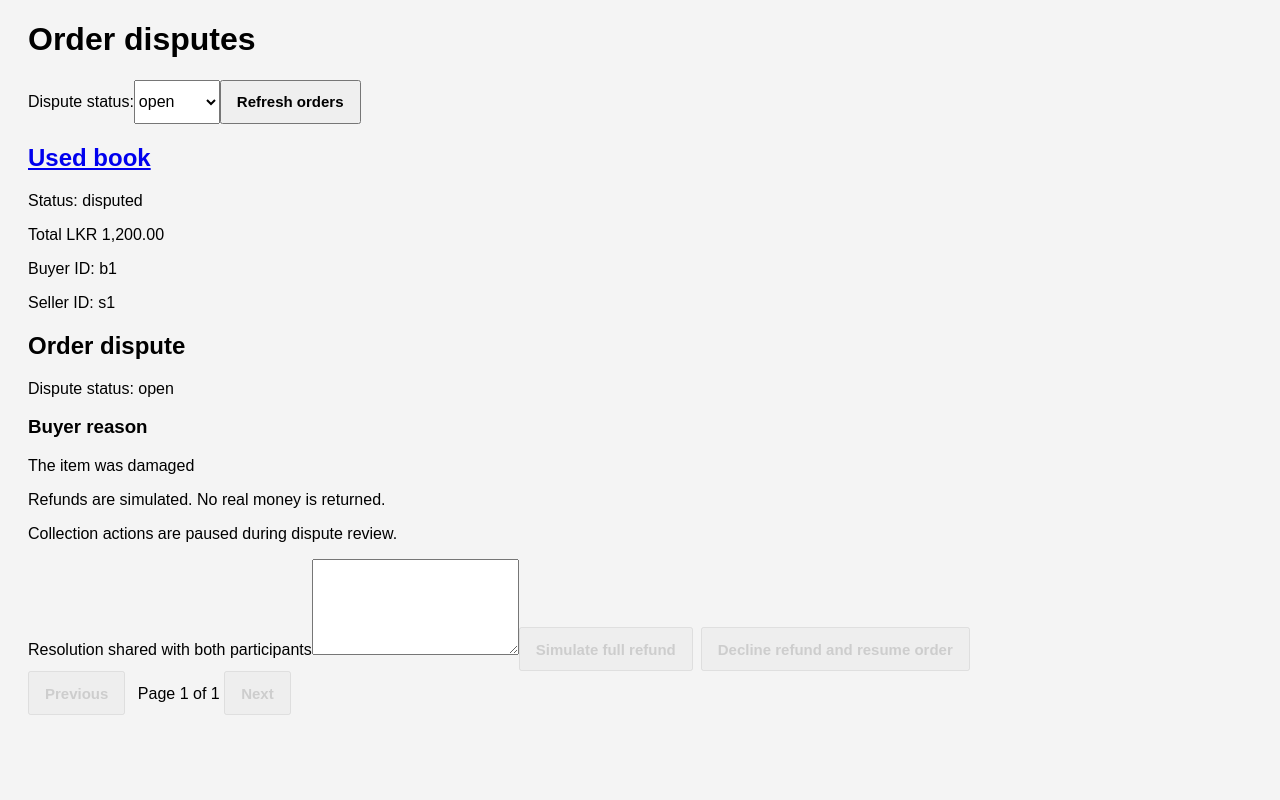
Test: stale admin decisions display an error and keep the canonical order for refresh
Type "Refund approved" into the text box labelled "Resolution shared with both participants" at (415, 607), box [312,559,519,655]
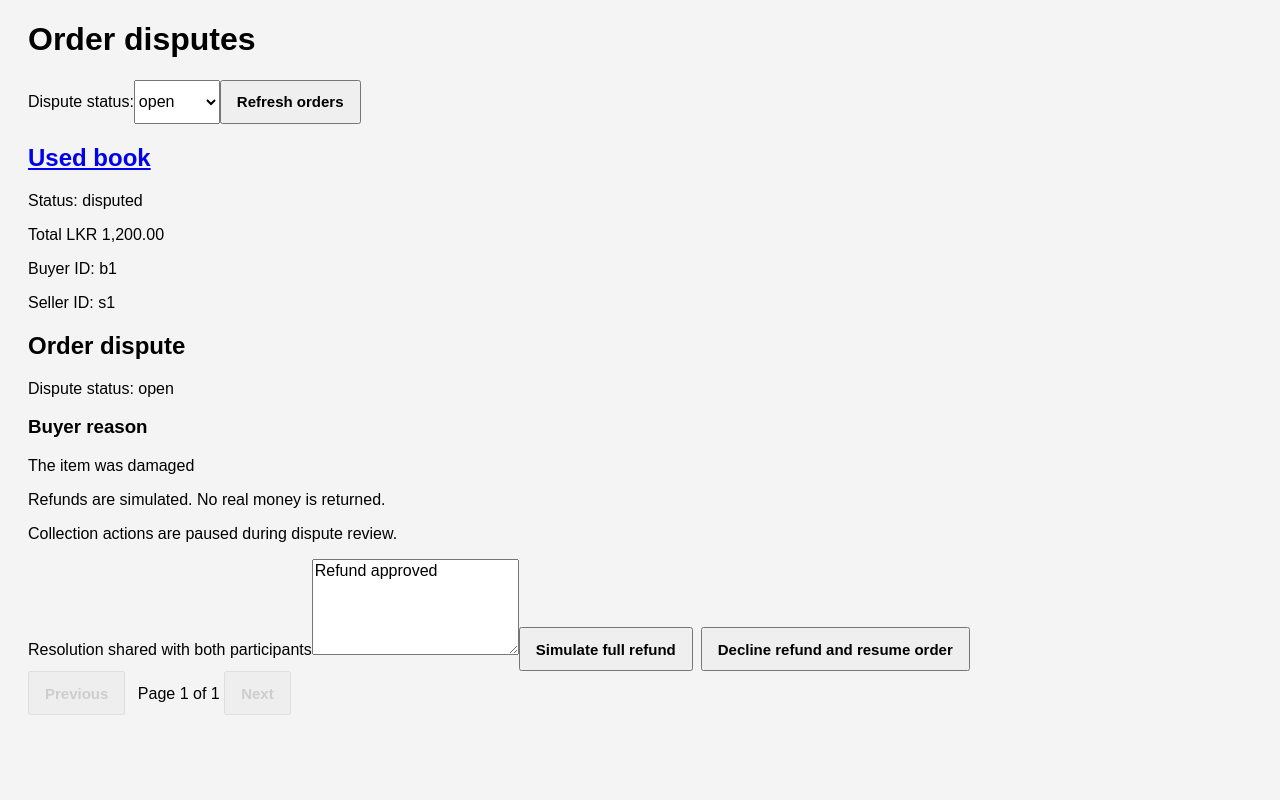
Click the button "Simulate full refund" at (606, 649), box [519,627,693,671]
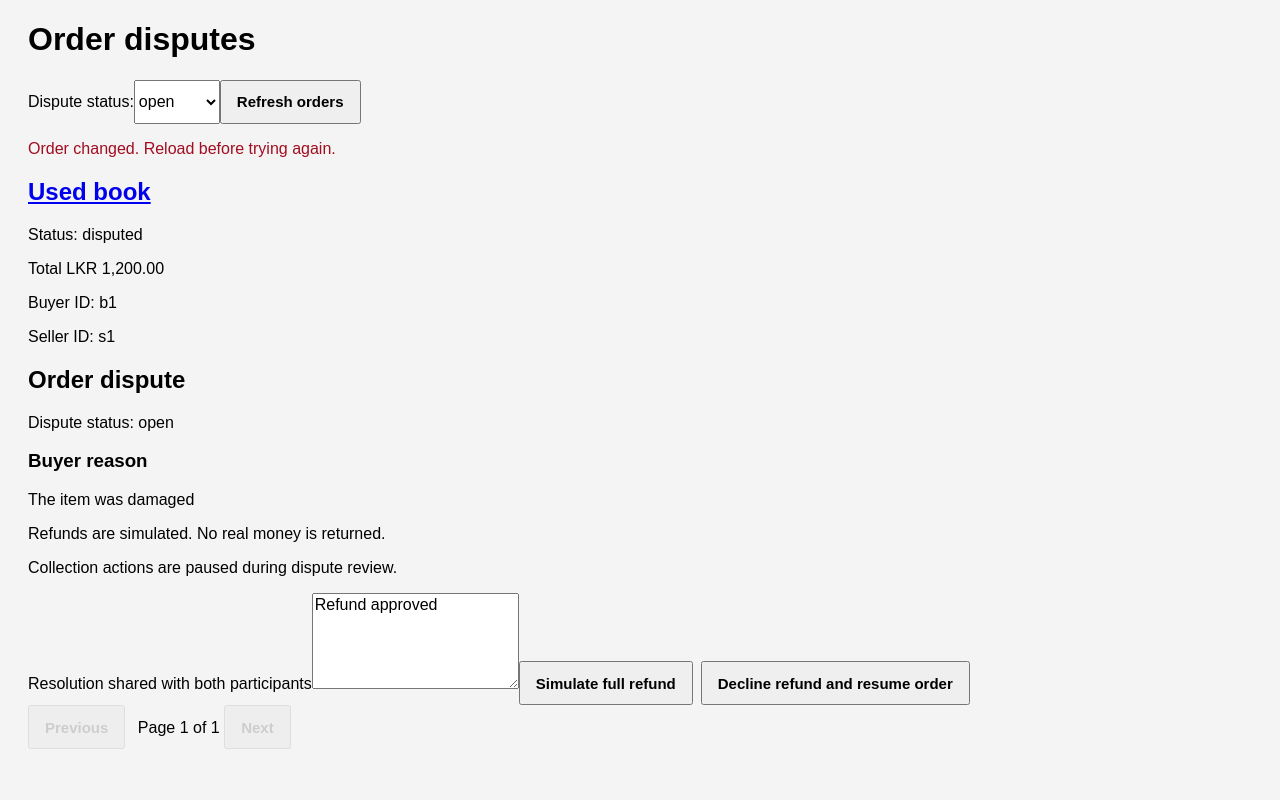
Expected: the text "Status: disputed" is shown, [28,226,143,243]
Result: the message "Order changed. Reload before trying again." is shown at [28,140,336,157]
